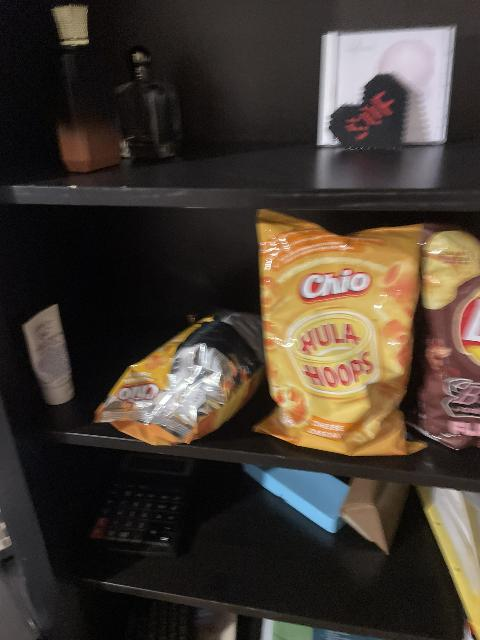Chio Cascaval 125g: (94, 305, 269, 443)
Chio Hula Hoops Cheese 70g: (252, 203, 431, 459)
Lays Beef Grilled Ribs 125g: (414, 221, 480, 451)
